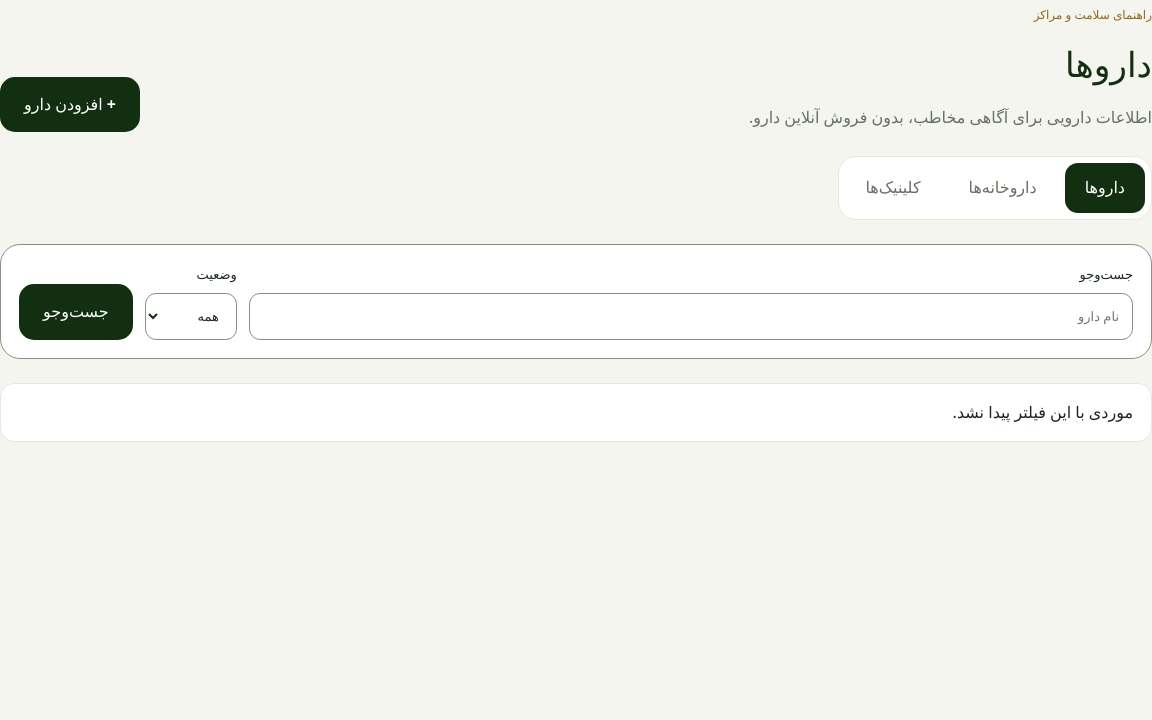
Test: keeps nested draft confirmation in control of Tab and Escape without closing its care editor
Click the button "+ افزودن دارو".
click(70, 105)  # box [0,77,140,132]
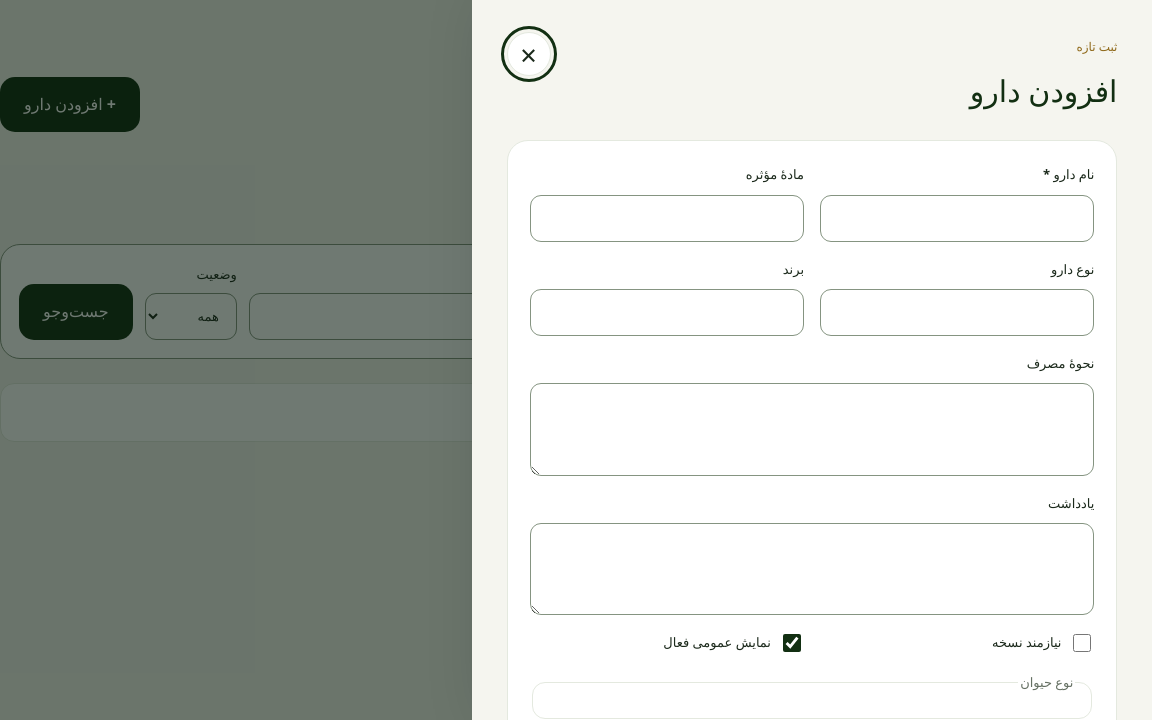
Type "پیش‌نویس دارو" into the field labelled "نام دارو *".
click(957, 218); type("پیش‌نویس دارو")  # box [820,195,1094,242]
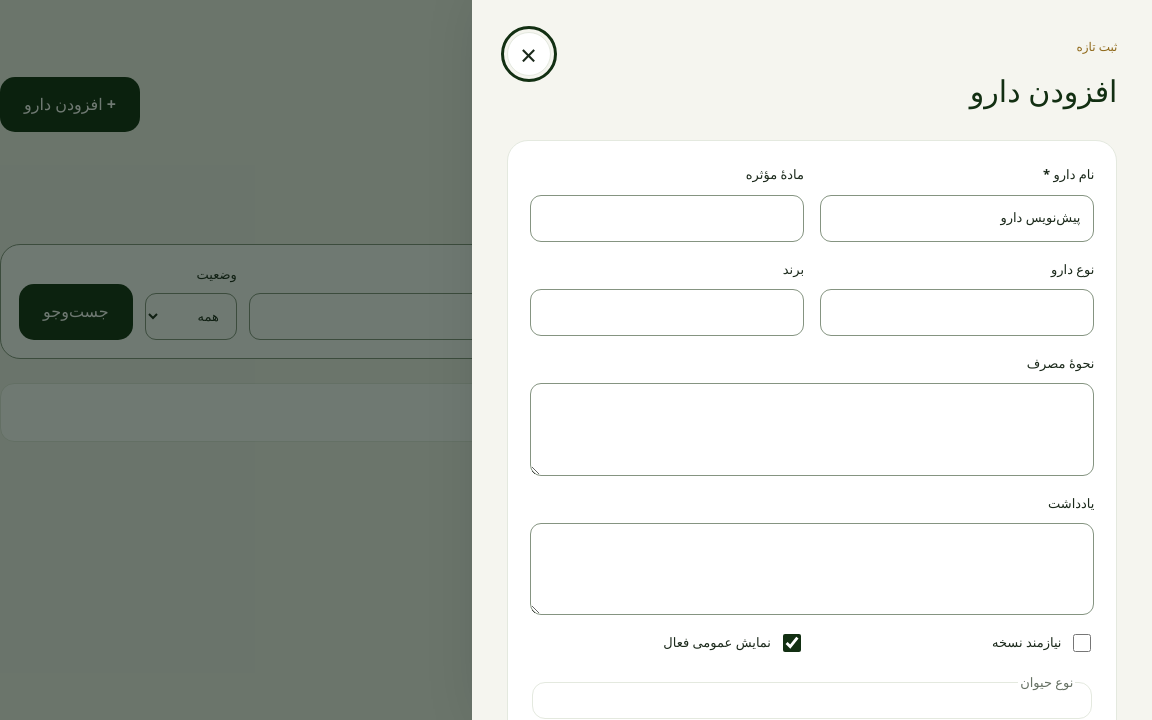
Press Escape
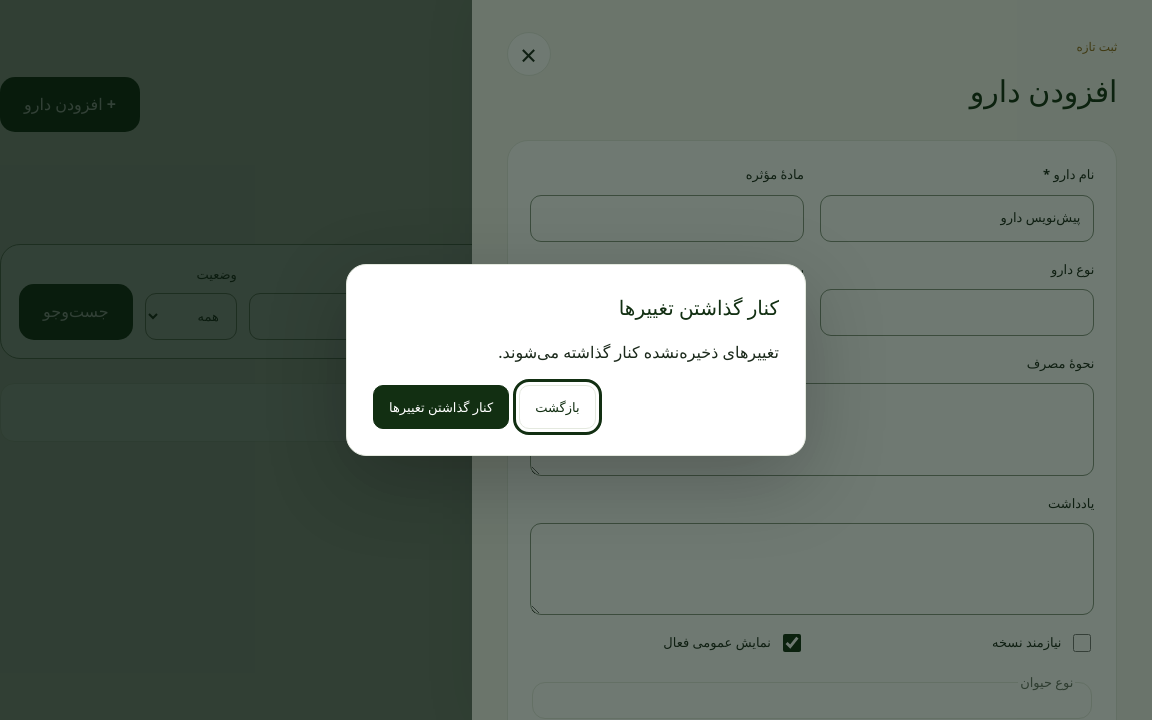
Press Tab in the button "بازگشت", box [519,385,596,429]
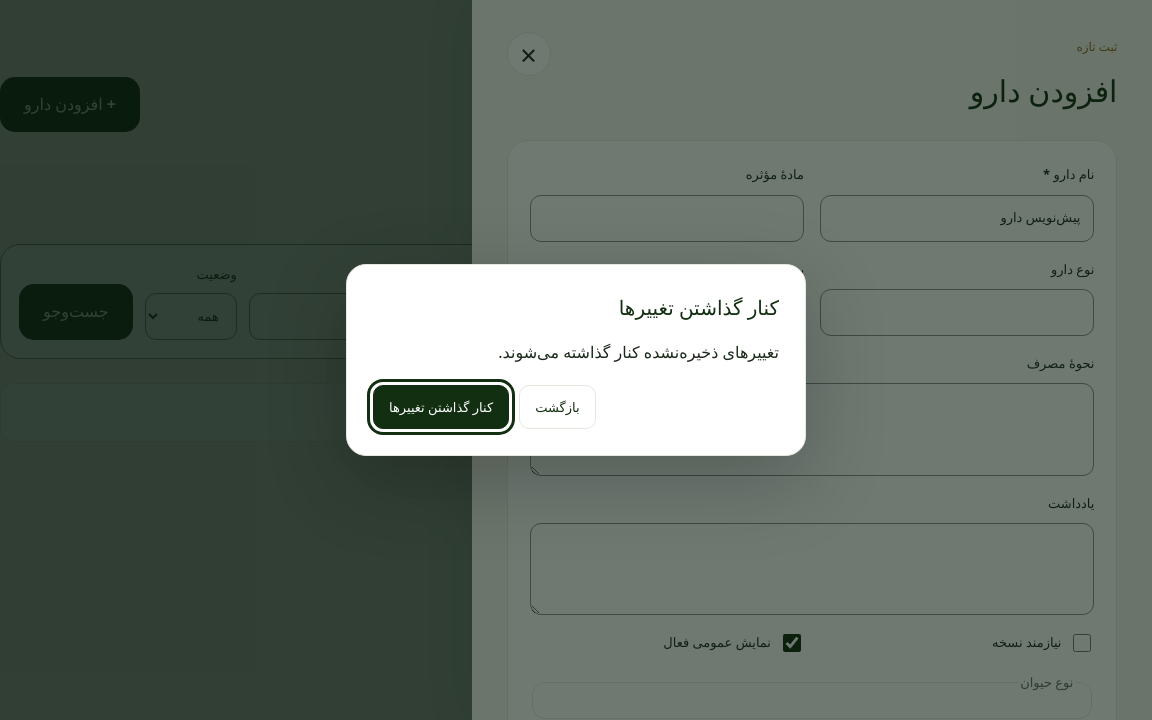
Press Escape in the button "کنار گذاشتن تغییرها", box [373,385,509,429]
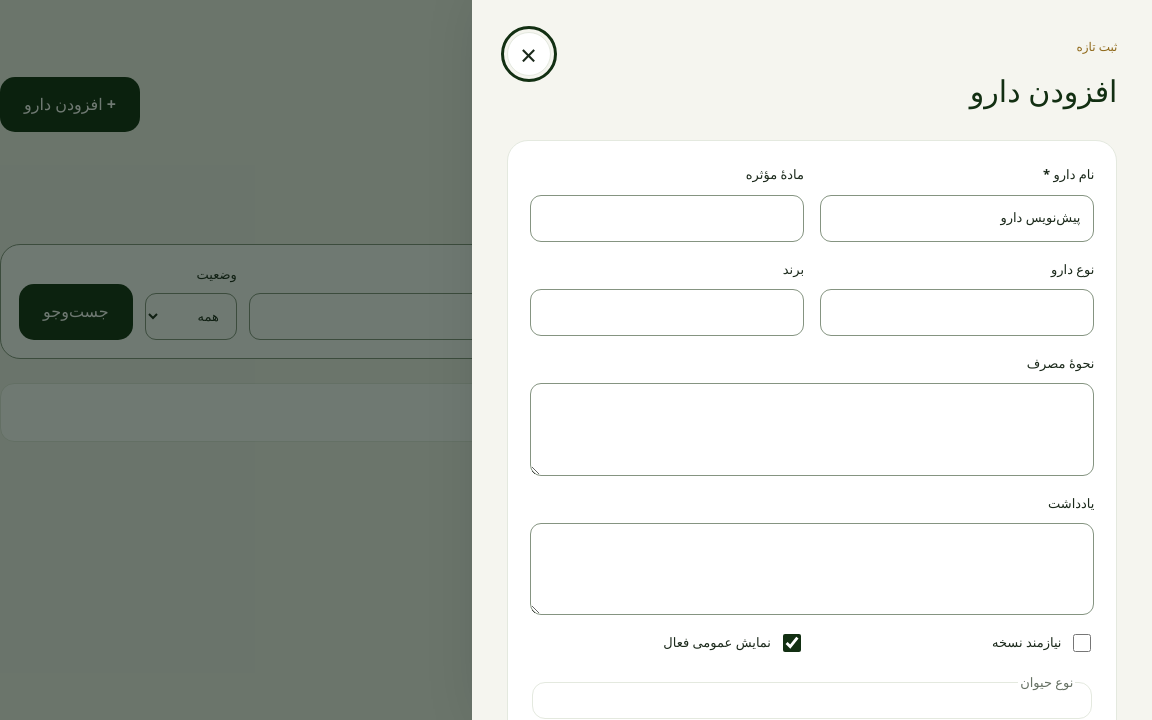
Expected: the dialog "افزودن دارو" is shown, [472,0,1151,719]
Expected: the heading "کنار گذاشتن تغییرها" is gone
